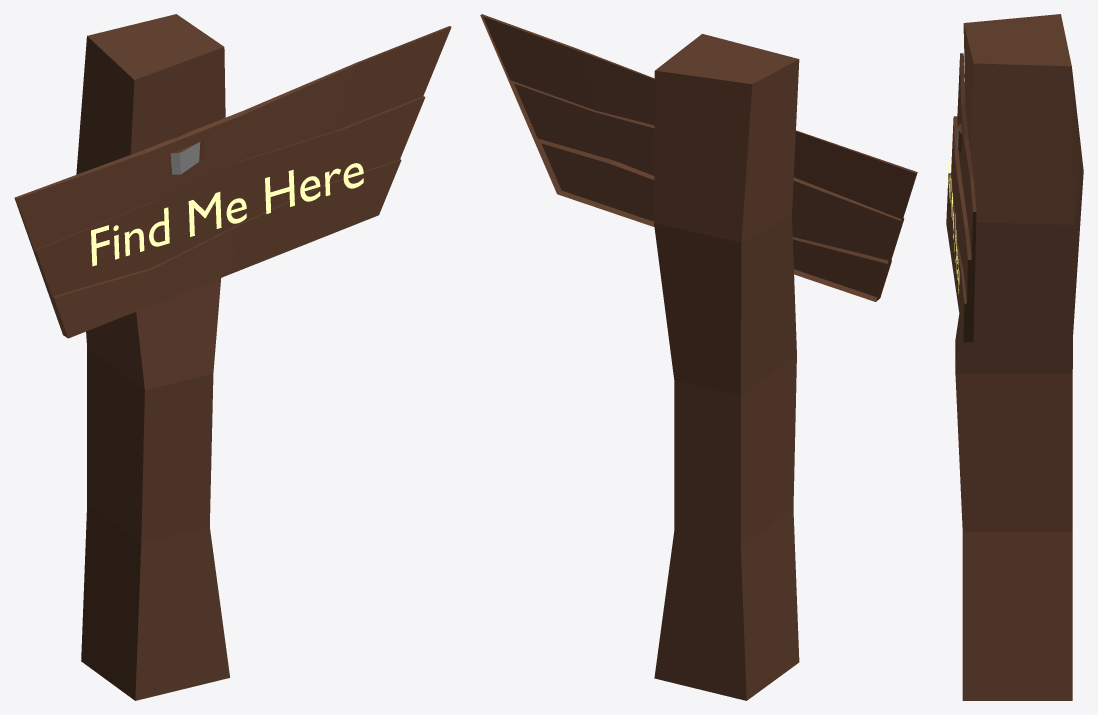
The model's file is sign-board-find-me-here.gltf.
3 renders of one model, left to right at view 1: azimuth 30°, elevation 25°; view 2: azimuth 150°, elevation 25°; view 3: azimuth 270°, elevation 25°, orthographic. The views are drawn at different scales.
Visible parts, largest first — view 1: wooden-sign-board, Text; view 2: wooden-sign-board; view 3: wooden-sign-board, Text.
Boxes of the visible parts, x1=… form: wooden-sign-board: x1=14, y1=14, x2=451, y2=700; Text: x1=91, y1=163, x2=363, y2=266; wooden-sign-board: x1=480, y1=14, x2=917, y2=700; wooden-sign-board: x1=946, y1=14, x2=1083, y2=700; Text: x1=947, y1=133, x2=959, y2=293.
Bounding box in the file's own units: 1.48 × 2.02 × 0.3928.
2 materials, 1 textured.
